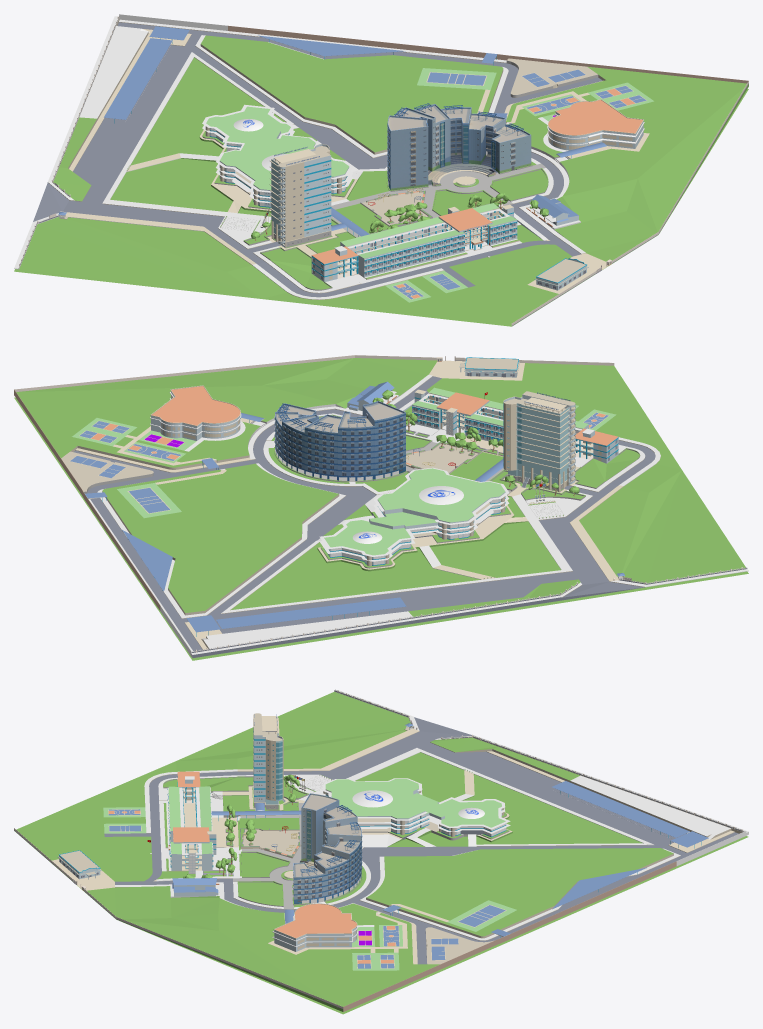
File: uit_myuit_nuongB.glb
The picture shows the model from 3 angles, top to bottom: view 1: azimuth 30°, elevation 25°; view 2: azimuth 150°, elevation 25°; view 3: azimuth 270°, elevation 25°; orthographic projection. The views are drawn at different scales.
Visible parts, largest first — view 1: map, BLD_B, BLD_C, BLD_A, BLD_E, ROOF_walk, BLD_CanTin, BLD_D, GND_Base, PODIUM_B, BLD_CanTin2; view 2: map, BLD_A, BLD_B, BLD_E, BLD_C, ROOF_walk, BLD_CanTin, GND_Base, BLD_D, BLD_CanTin2; view 3: map, BLD_A, BLD_B, BLD_C, ROOF_walk, BLD_CanTin, BLD_E, GND_Base, BLD_CanTin2, BLD_D.
Boxes of the visible parts, left/top/right/bottom form: map: left=14, top=14, right=748, bottom=326; BLD_B: left=387, top=103, right=531, bottom=190; BLD_C: left=311, top=203, right=517, bottom=281; BLD_A: left=202, top=104, right=352, bottom=207; BLD_E: left=269, top=144, right=331, bottom=246; ROOF_walk: left=58, top=25, right=606, bottom=236; BLD_CanTin: left=547, top=99, right=644, bottom=150; BLD_D: left=534, top=258, right=588, bottom=290; GND_Base: left=14, top=89, right=748, bottom=326; PODIUM_B: left=415, top=155, right=496, bottom=186; BLD_CanTin2: left=531, top=194, right=578, bottom=225; map: left=14, top=355, right=748, bottom=658; BLD_A: left=319, top=467, right=509, bottom=566; BLD_B: left=274, top=401, right=405, bottom=480; BLD_E: left=503, top=391, right=575, bottom=492; BLD_C: left=409, top=387, right=619, bottom=463; ROOF_walk: left=85, top=413, right=624, bottom=632; BLD_CanTin: left=150, top=385, right=241, bottom=440; GND_Base: left=14, top=397, right=748, bottom=660; BLD_D: left=459, top=357, right=519, bottom=377; BLD_CanTin2: left=347, top=381, right=394, bottom=410; map: left=14, top=689, right=748, bottom=1011; BLD_A: left=322, top=778, right=510, bottom=837; BLD_B: left=293, top=793, right=362, bottom=903; BLD_C: left=167, top=771, right=216, bottom=873; ROOF_walk: left=211, top=723, right=708, bottom=936; BLD_CanTin: left=272, top=903, right=357, bottom=951; BLD_E: left=253, top=713, right=284, bottom=810; GND_Base: left=16, top=832, right=748, bottom=1014; BLD_CanTin2: left=172, top=878, right=218, bottom=896; BLD_D: left=58, top=850, right=101, bottom=879.
Size of the model in its own units: 462 by 51.71 by 446.
26 materials, 3 textured.
